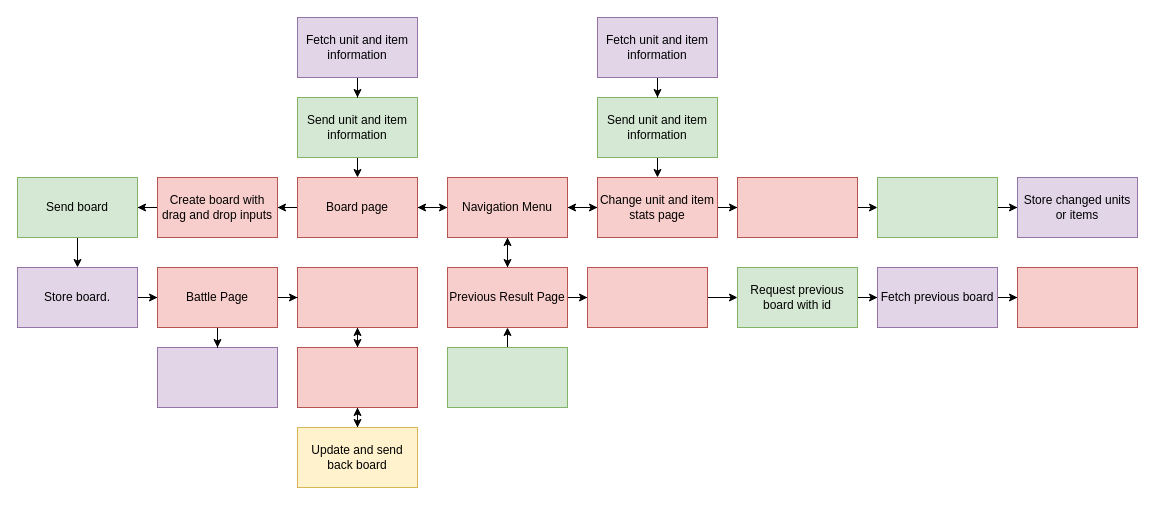
Some shapes in this 1155 by 505 pixel diagram are drawn without their labels. The centre of each missing label's shape, as x and y in pixels:
"Display board" belongs at [1077,297].
"Fetch previous results id list" belongs at [507,377].
"Retrieve and display board" belongs at [357,297].
"Select previous board from id" belongs at [647,297].
"Send requests to simulate battle" belongs at [357,377].
"Store board outcome once battle is over" belongs at [217,377].
"Submit changed units or items" belongs at [937,207].
"User inputs and buttons for changing stats" belongs at [797,207].
